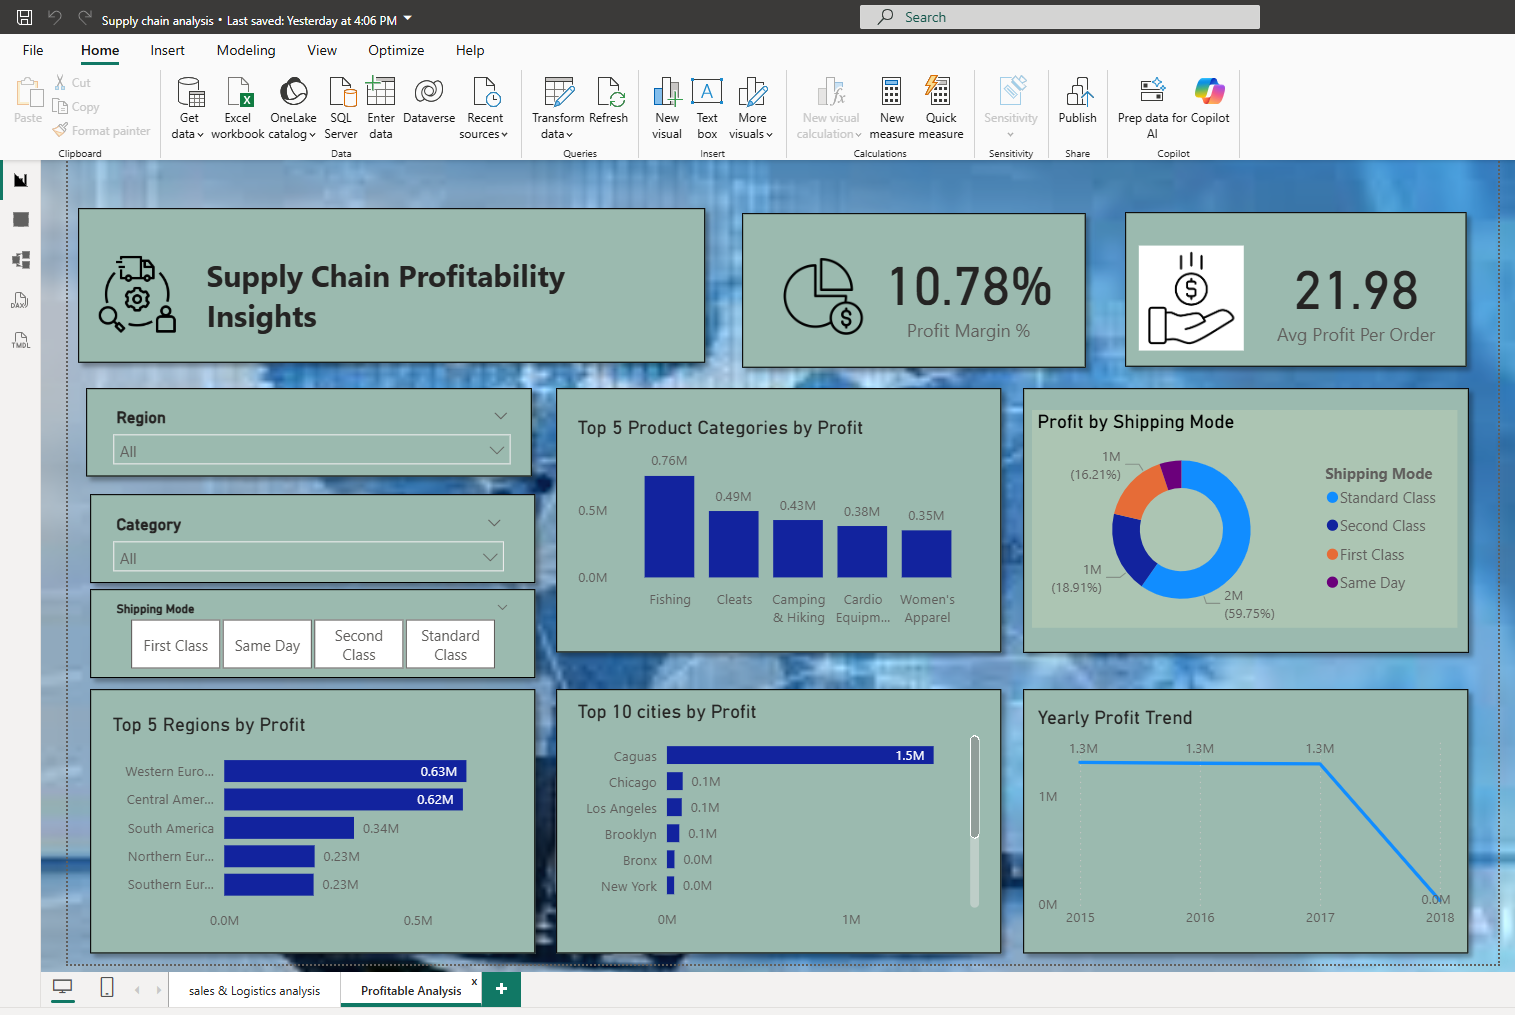

This screenshot's page, from the dashboard's own definition file:
{"tool":"powerbi","page":{"name":"Profitable Analysis","canvas":[1280,720],"ordinal":1},"visuals":[{"type":"shape","box":[6.8,195.5,417.3,97.3],"z":0},{"type":"shape","box":[0,34,579.7,156.6],"z":1000},{"type":"shape","box":[594.3,38.9,325.8,156.6],"z":2000},{"type":"shape","box":[937.6,37.9,323.9,156.6],"z":3000},{"type":"shape","box":[10.9,465.2,416.8,254.8],"z":4000},{"type":"barChart","title":"Top 5 Regions by Profit","fields":{"Category":["Supply chain data.Order Region"],"Y":["Sum(Supply chain data.Order Profit Per Order)"]},"box":[34.6,494.8,369.4,203.5],"z":5000},{"type":"shape","box":[427.7,195.6,416.8,254.8],"z":6000},{"type":"columnChart","title":"Top 5 Product Categories by Profit","fields":{"Category":["Supply chain data.Category Name"],"Y":["Sum(Supply chain data.Order Profit Per Order)"]},"box":[451.4,229.1,369.4,195.6],"z":7000},{"type":"shape","box":[427.7,465.2,416.8,254.8],"z":8000},{"type":"clusteredBarChart","title":"Top 10 cities by Profit","fields":{"Category":["Supply chain data.Customer City"],"Y":["Sum(Supply chain data.Order Profit Per Order)"]},"box":[451.3,483.4,369.6,215],"z":9000},{"type":"shape","box":[846.4,465.2,416.8,254.8],"z":10000},{"type":"lineChart","title":"Yearly Profit Trend","fields":{"Category":["Supply chain data.order date (DateOrders).Variation.Date Hierarchy.Year","Supply chain data.order date (DateOrders).Variation.Date Hierarchy.Quarter","Supply chain data.order date (DateOrders).Variation.Date Hierarchy.Month","Supply chain data.order date (DateOrders).Variation.Date Hierarchy.Day"],"Y":["Sum(Supply chain data.Order Profit Per Order)"]},"box":[863.2,488.9,383.2,207.4],"z":11000},{"type":"shape","box":[10.9,290.4,416.8,97.8],"z":12000},{"type":"shape","box":[10.9,375.3,416.8,97.8],"z":13000},{"type":"slicer","fields":{"Values":["Supply chain data.Order Region"]},"box":[30.6,217.3,376.3,57.3],"z":14000},{"type":"slicer","fields":{"Values":["Supply chain data.Category Name"]},"box":[30.6,313.1,370.4,58.3],"z":15000},{"type":"slicer","fields":{"Values":["Supply chain data.Shipping Mode"]},"box":[30.6,390.1,376.3,66.2],"z":16000},{"type":"textbox","box":[118.7,79.8,417.3,87.5],"z":17000},{"type":"image","box":[21.4,79.8,80.7,81.7],"z":18000},{"type":"card","fields":{"Values":["Supply chain data.Profit Margin %"]},"box":[721.8,59.1,169.3,116.4],"z":19000},{"type":"card","fields":{"Values":["Supply chain data.Avg Profit Per Order"]},"box":[1061.2,65.2,184.8,111.9],"z":20000},{"type":"image","box":[631.2,75.9,90.5,91.4],"z":21000},{"type":"image","box":[952.2,72,108.9,104.1],"z":22000},{"type":"shape","box":[846.3,195.2,417.3,255.2],"z":23000},{"type":"donutChart","title":" Profit by Shipping Mode","fields":{"Category":["Supply chain data.Shipping Mode"],"Y":["Sum(Supply chain data.Order Profit Per Order)"]},"box":[863.3,223.9,380.6,195.2],"z":24000},{"type":"textbox","box":[916.1,689.6,301.8,30.4],"z":25000}]}

Visuals, with their boxes on the page's 1280x720 design canvas (x1, y1, x2, y2). These are canvas units, not pixel positions in the 1515x1015 screenshot, which may show the page scaled, cropped or inside an application window:
shape: region(7, 196, 424, 293)
shape: region(0, 34, 580, 191)
shape: region(594, 39, 920, 196)
shape: region(938, 38, 1262, 194)
shape: region(11, 465, 428, 720)
"Top 5 Regions by Profit" barChart: region(35, 495, 404, 698)
shape: region(428, 196, 844, 450)
"Top 5 Product Categories by Profit" columnChart: region(451, 229, 821, 425)
shape: region(428, 465, 844, 720)
"Top 10 cities by Profit" clusteredBarChart: region(451, 483, 821, 698)
shape: region(846, 465, 1263, 720)
"Yearly Profit Trend" lineChart: region(863, 489, 1246, 696)
shape: region(11, 290, 428, 388)
shape: region(11, 375, 428, 473)
slicer - Supply chain data.Order Region: region(31, 217, 407, 275)
slicer - Supply chain data.Category Name: region(31, 313, 401, 371)
slicer - Supply chain data.Shipping Mode: region(31, 390, 407, 456)
textbox: region(119, 80, 536, 167)
image: region(21, 80, 102, 162)
card - Supply chain data.Profit Margin %: region(722, 59, 891, 176)
card - Supply chain data.Avg Profit Per Order: region(1061, 65, 1246, 177)
image: region(631, 76, 722, 167)
image: region(952, 72, 1061, 176)
shape: region(846, 195, 1264, 450)
" Profit by Shipping Mode" donutChart: region(863, 224, 1244, 419)
textbox: region(916, 690, 1218, 720)
